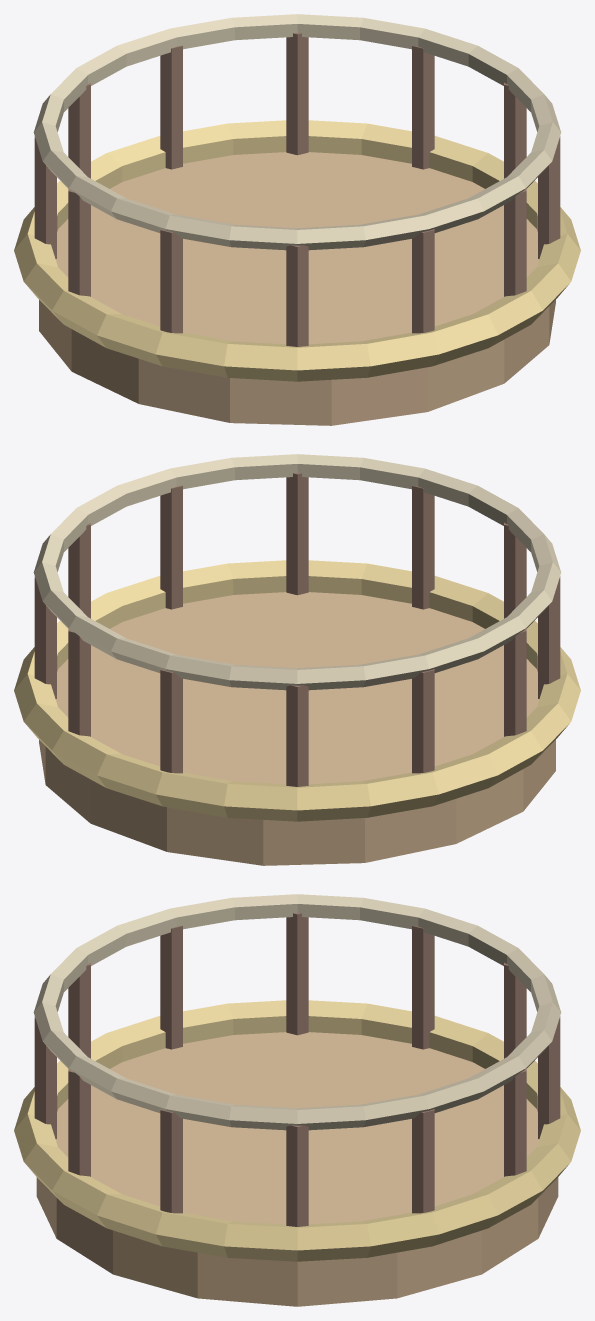
Rendered from cofa.glb.
3 renders of one model, top to bottom at view 1: azimuth 30°, elevation 25°; view 2: azimuth 150°, elevation 25°; view 3: azimuth 270°, elevation 25°, orthographic.
Visible parts, largest first — view 1: cofa; view 2: cofa; view 3: cofa.
Boxes of the visible parts, left/top/right/bottom form: cofa: left=14, top=14, right=580, bottom=425; cofa: left=14, top=454, right=580, bottom=865; cofa: left=14, top=894, right=580, bottom=1306.
Size of the model in its own units: 1.87 by 0.708 by 1.87.
